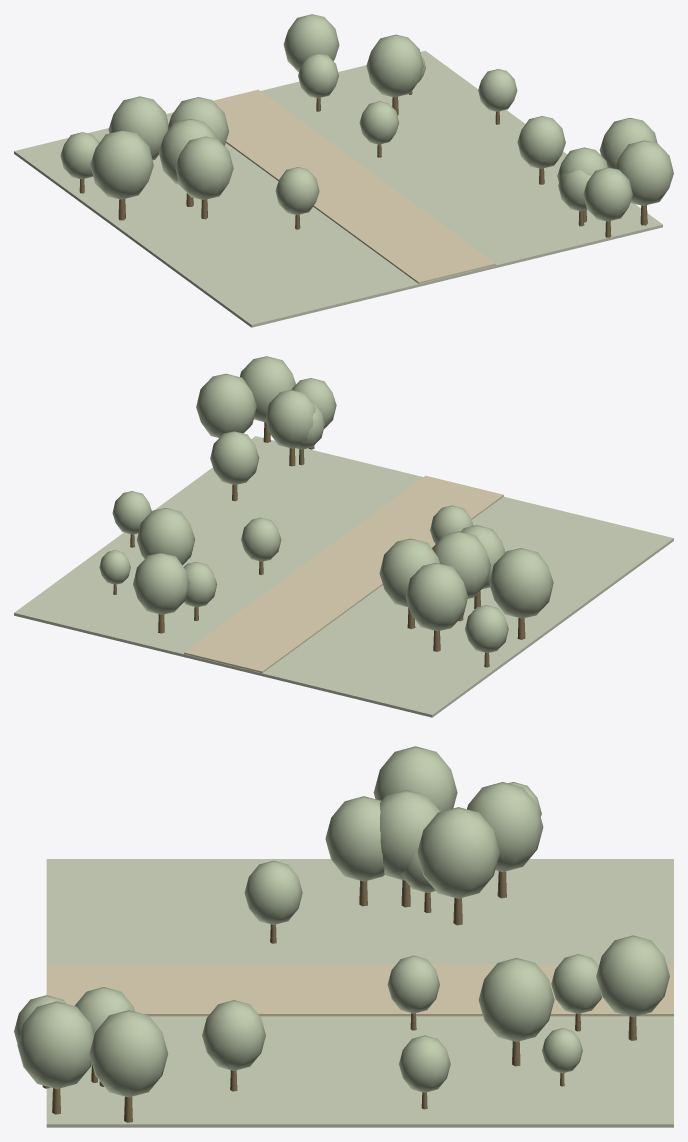
3 renders of one model, top to bottom at view 1: azimuth 30°, elevation 25°; view 2: azimuth 150°, elevation 25°; view 3: azimuth 270°, elevation 25°, orthographic. The views are drawn at different scales.
Visible parts, largest first — view 1: terrain, object 2, lod-near-30, lod-near-7, lod-near-11, lod-near-21, lod-near-2, lod-near-29, lod-near-12, lod-near-1, lod-near-6, lod-near-8 (+8 smaller); view 2: terrain, object 2, lod-near-30, lod-near-2, lod-near-10, lod-near-29, lod-near-11, lod-near-8, lod-near-25, lod-near-4, lod-near-1, lod-near-21 (+8 smaller); view 3: terrain, object 2, lod-near-4, lod-near-10, lod-near-21, lod-near-11, lod-near-29, lod-near-2, lod-near-7, lod-near-8, lod-near-30, lod-near-1 (+8 smaller).
Part boxes in pixels (x1=…): terrain: x1=14, y1=50, x2=662, y2=327; object 2: x1=213, y1=89, x2=495, y2=283; lod-near-30: x1=90, y1=130, x2=153, y2=199; lod-near-7: x1=175, y1=136, x2=233, y2=199; lod-near-11: x1=366, y1=34, x2=423, y2=97; lod-near-21: x1=615, y1=140, x2=673, y2=205; lod-near-2: x1=108, y1=96, x2=168, y2=160; lod-near-29: x1=283, y1=14, x2=339, y2=72; lod-near-12: x1=583, y1=167, x2=632, y2=221; lod-near-1: x1=517, y1=116, x2=565, y2=168; lod-near-6: x1=275, y1=167, x2=319, y2=214; lod-near-8: x1=158, y1=119, x2=217, y2=184; terrain: x1=14, y1=436, x2=673, y2=717; object 2: x1=184, y1=475, x2=503, y2=673; lod-near-30: x1=489, y1=548, x2=553, y2=618; lod-near-2: x1=405, y1=563, x2=468, y2=631; lod-near-10: x1=196, y1=373, x2=256, y2=437; lod-near-29: x1=133, y1=553, x2=189, y2=614; lod-near-11: x1=137, y1=508, x2=195, y2=565; lod-near-8: x1=432, y1=531, x2=490, y2=598; lod-near-25: x1=265, y1=390, x2=315, y2=448; lod-near-4: x1=379, y1=538, x2=439, y2=607; lod-near-1: x1=210, y1=431, x2=259, y2=484; lod-near-21: x1=240, y1=356, x2=295, y2=422; terrain: x1=46, y1=859, x2=673, y2=1127; object 2: x1=46, y1=964, x2=673, y2=1016; lod-near-4: x1=417, y1=807, x2=499, y2=898; lod-near-10: x1=89, y1=1010, x2=168, y2=1097; lod-near-21: x1=17, y1=1001, x2=93, y2=1088; lod-near-11: x1=478, y1=958, x2=554, y2=1041; lod-near-29: x1=596, y1=935, x2=669, y2=1016; lod-near-2: x1=467, y1=782, x2=543, y2=872; lod-near-7: x1=325, y1=796, x2=384, y2=881; lod-near-8: x1=379, y1=790, x2=440, y2=880; lod-near-30: x1=373, y1=746, x2=457, y2=811; lod-near-1: x1=202, y1=1000, x2=265, y2=1070.
Size of the model in its own units: 35.16 by 6.77 by 33.67.
